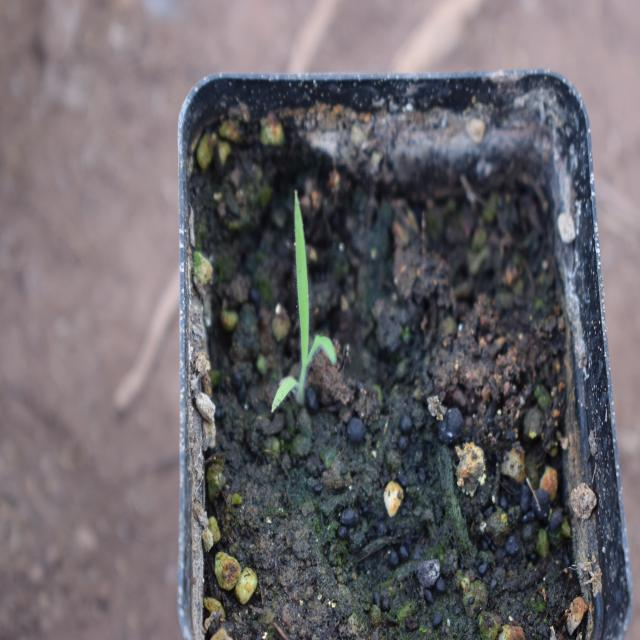crabgrass: (268, 193, 356, 455)
